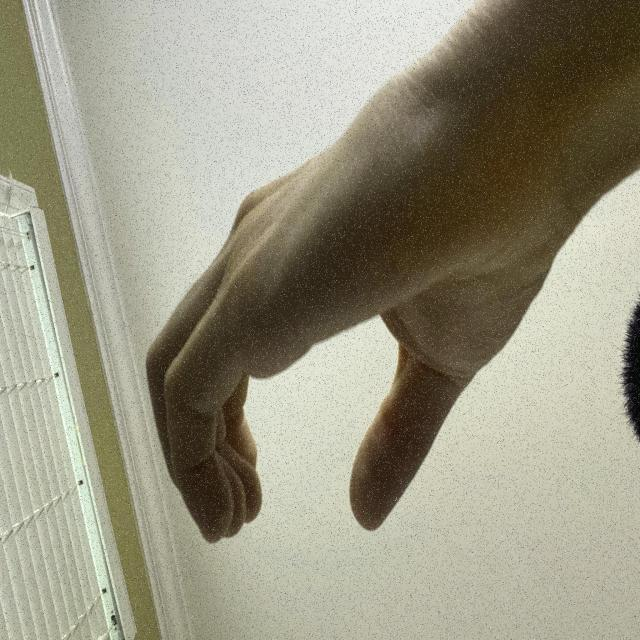C: (67, 187, 480, 640)
